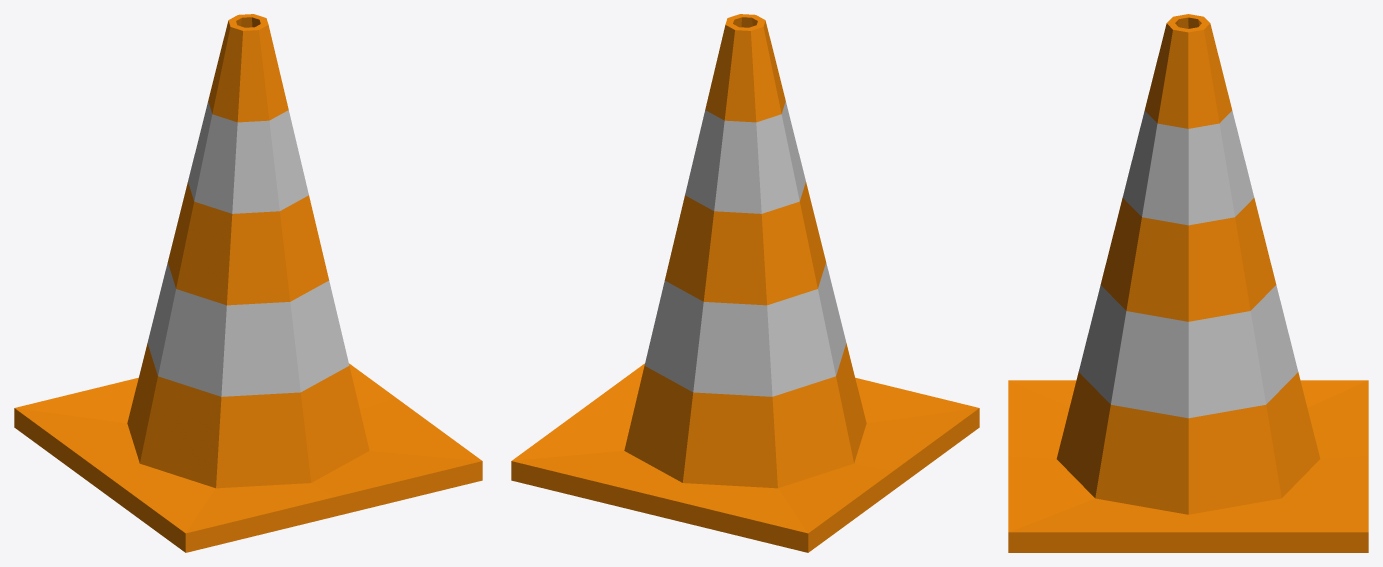
Rendered from Pion.fbx.
3 renders of one model, left to right at view 1: azimuth 30°, elevation 25°; view 2: azimuth 150°, elevation 25°; view 3: azimuth 270°, elevation 25°, orthographic. The views are drawn at different scales.
Visible parts, largest first — view 1: Cylinder; view 2: Cylinder; view 3: Cylinder.
Part boxes in pixels (<box>): Cylinder: <box>14,14,482,552</box>; Cylinder: <box>511,14,979,552</box>; Cylinder: <box>1008,14,1368,552</box>.
Size of the model in its own units: 0.2172 by 0.3018 by 0.2172.
